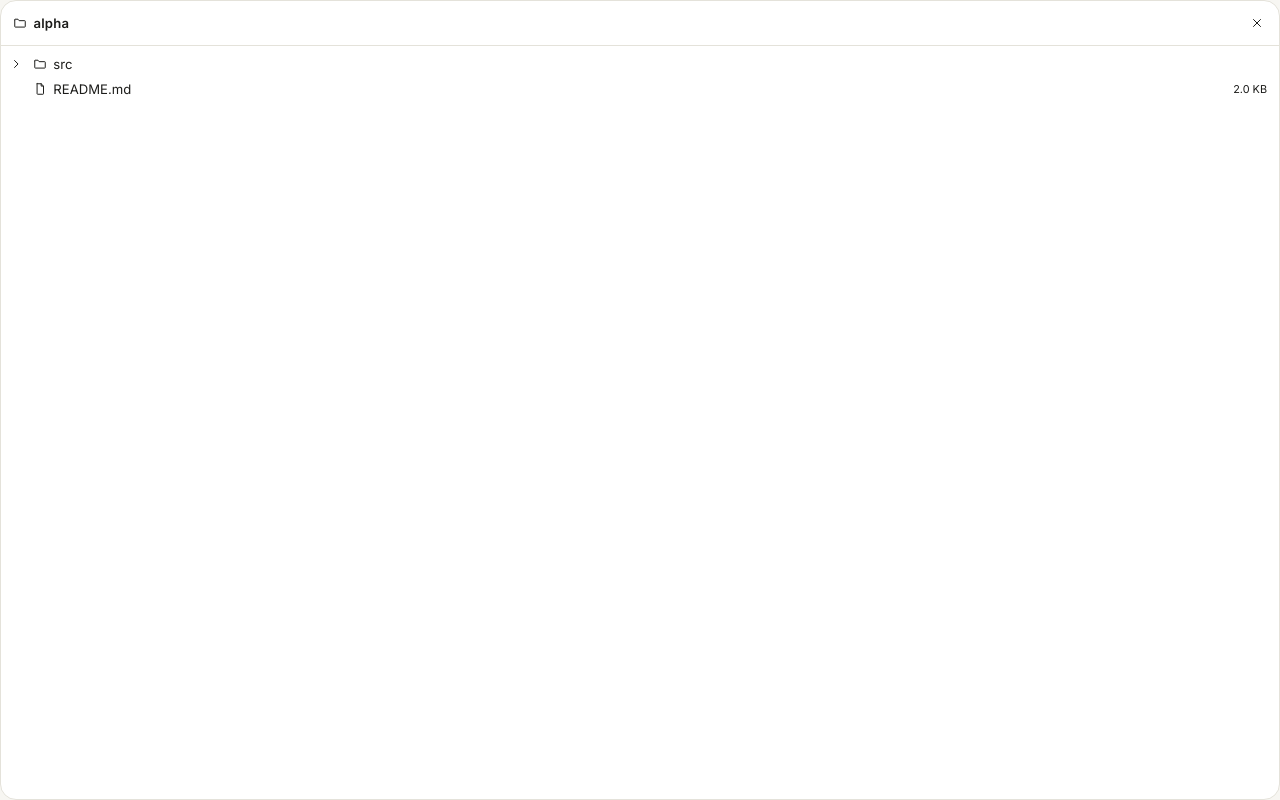
Test case: CodeExplorer › expands a directory lazily rather than walking the whole tree
Click the button named "Expand src": (16, 64) [7,55,25,73]
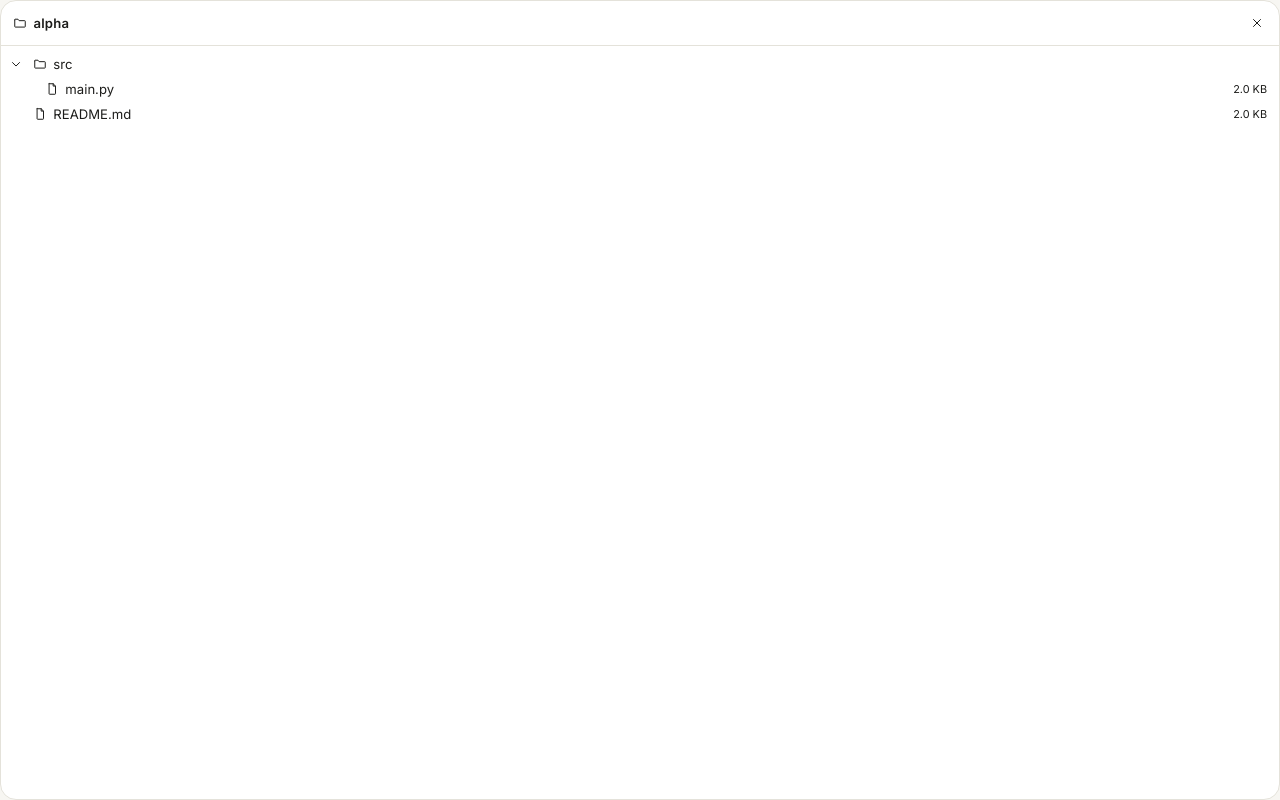
Expected: the text "main.py" is shown, [65,79,114,99]
